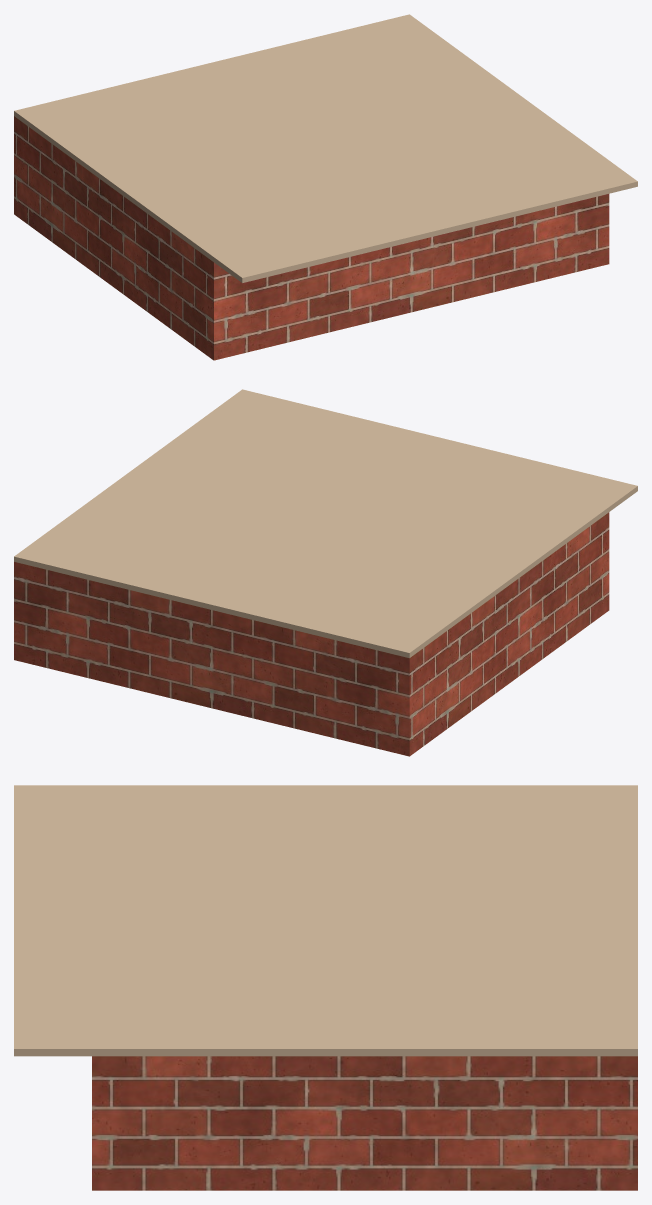
Rendered from vest_floor.glb.
3 views of the same model, one above another, from view 1: azimuth 30°, elevation 25°; view 2: azimuth 150°, elevation 25°; view 3: azimuth 270°, elevation 25° (orthographic). The views are drawn at different scales.
Visible parts, largest first — view 1: vest_floor_floor, vest_floor_brick; view 2: vest_floor_floor, vest_floor_brick; view 3: vest_floor_floor, vest_floor_brick.
Part boxes in pixels (box(x1,y1,x2,y2)): vest_floor_floor: box(14, 14, 637, 282); vest_floor_brick: box(14, 116, 609, 360); vest_floor_floor: box(14, 389, 637, 658); vest_floor_brick: box(14, 512, 609, 756); vest_floor_floor: box(14, 785, 637, 1056); vest_floor_brick: box(92, 1056, 637, 1190).
Bounding box in the file's own units: 2.4 × 0.6 × 2.4.
Materials: 2 (1 with a texture image).
